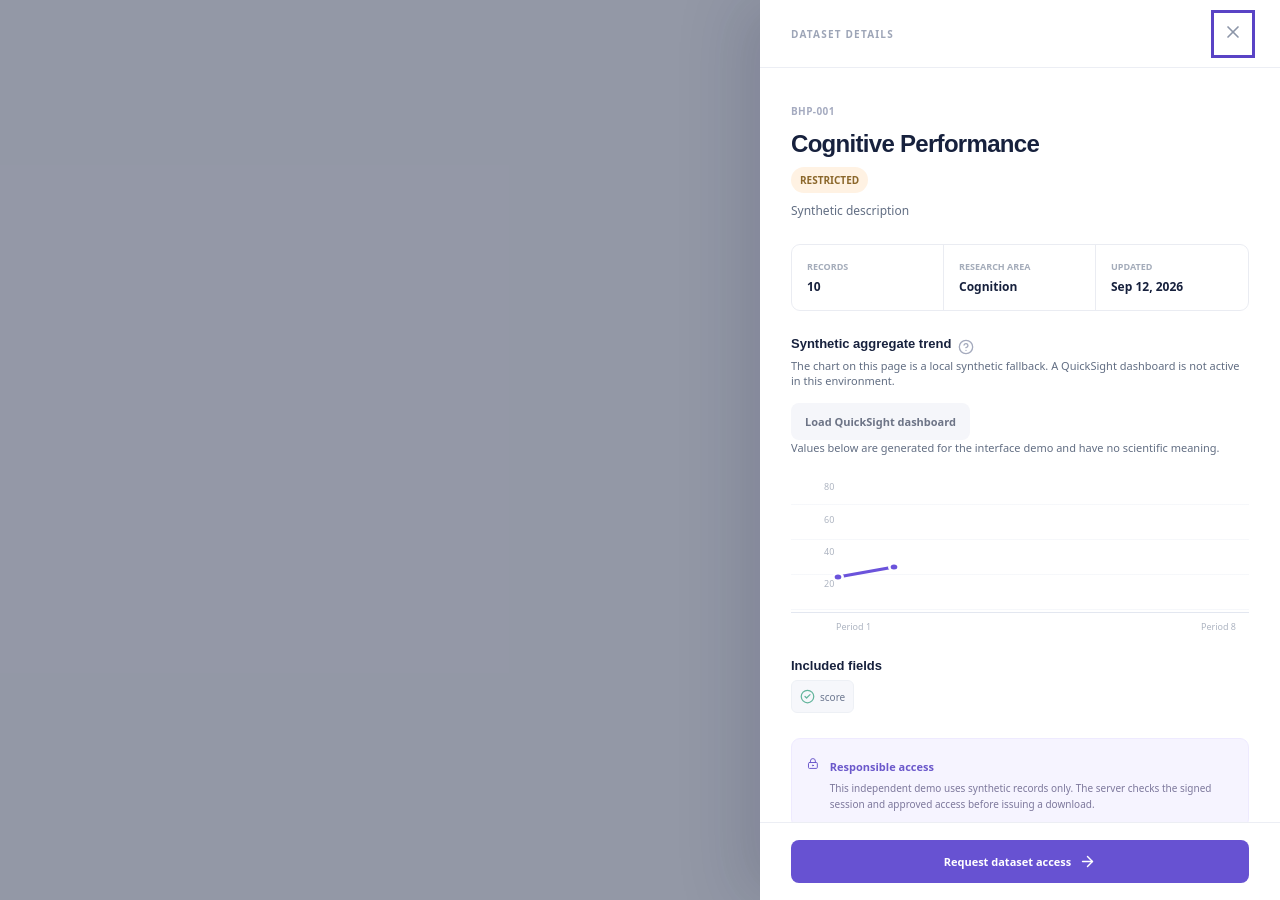
it: dataset detail access request › explains a failed submission and returns focus to the invalid field
Click the button "Request dataset access": coordinates (1020, 862) [791, 840, 1249, 883]
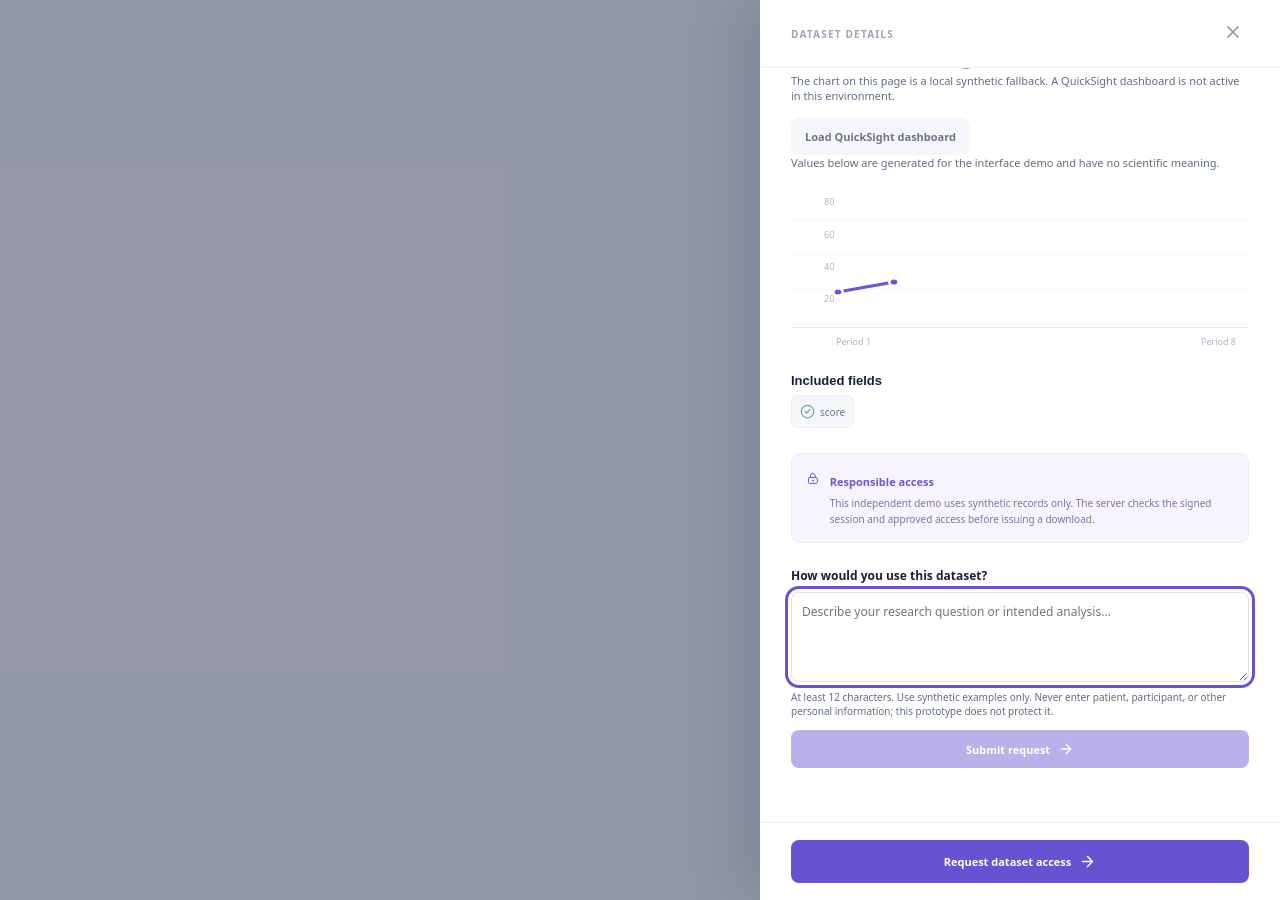
In the text box labelled "How would you use this dataset?": coordinates (1020, 637) [791, 592, 1249, 682], type "Compare synthetic measures across study periods."
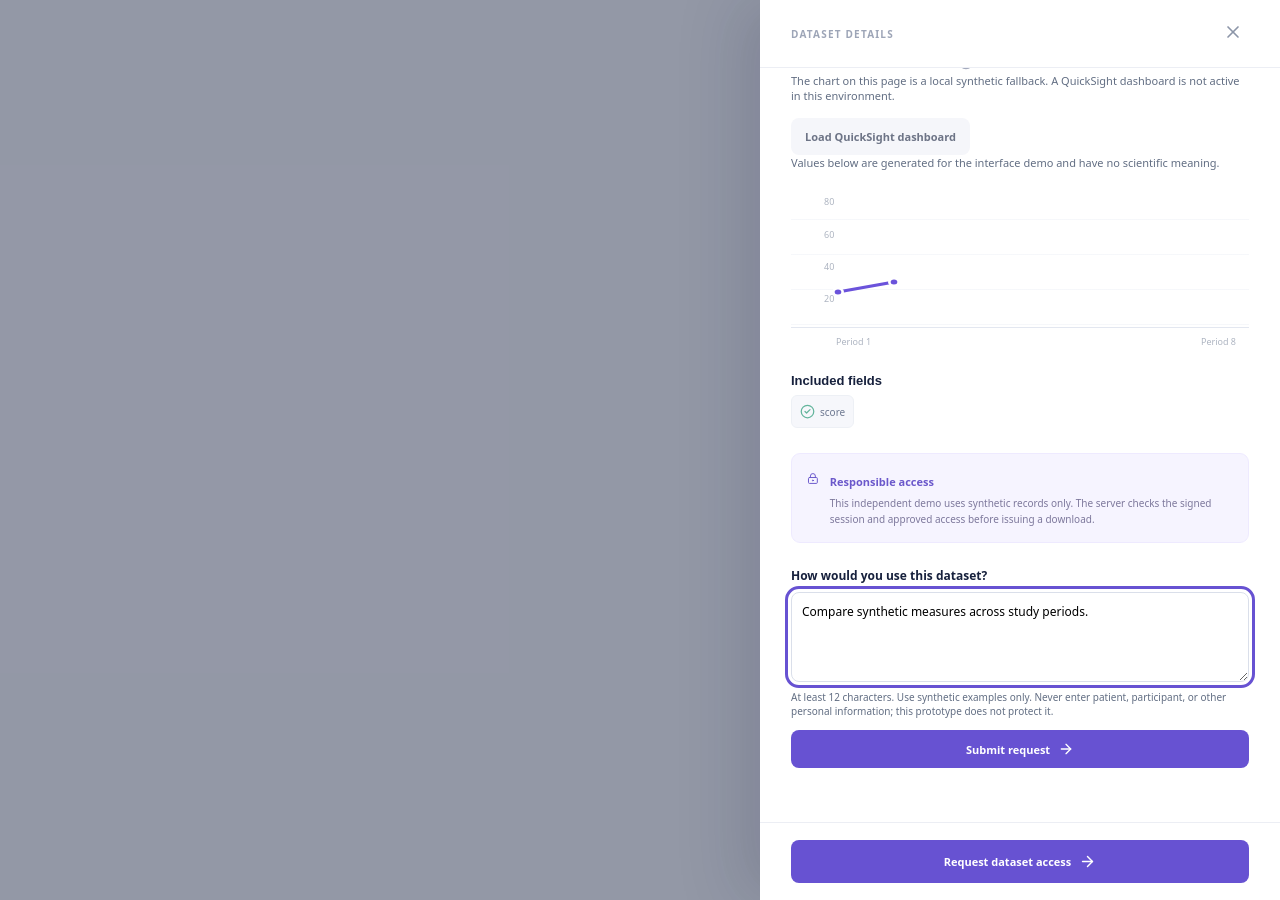
Click the button "Submit request": coordinates (1020, 749) [791, 730, 1249, 768]
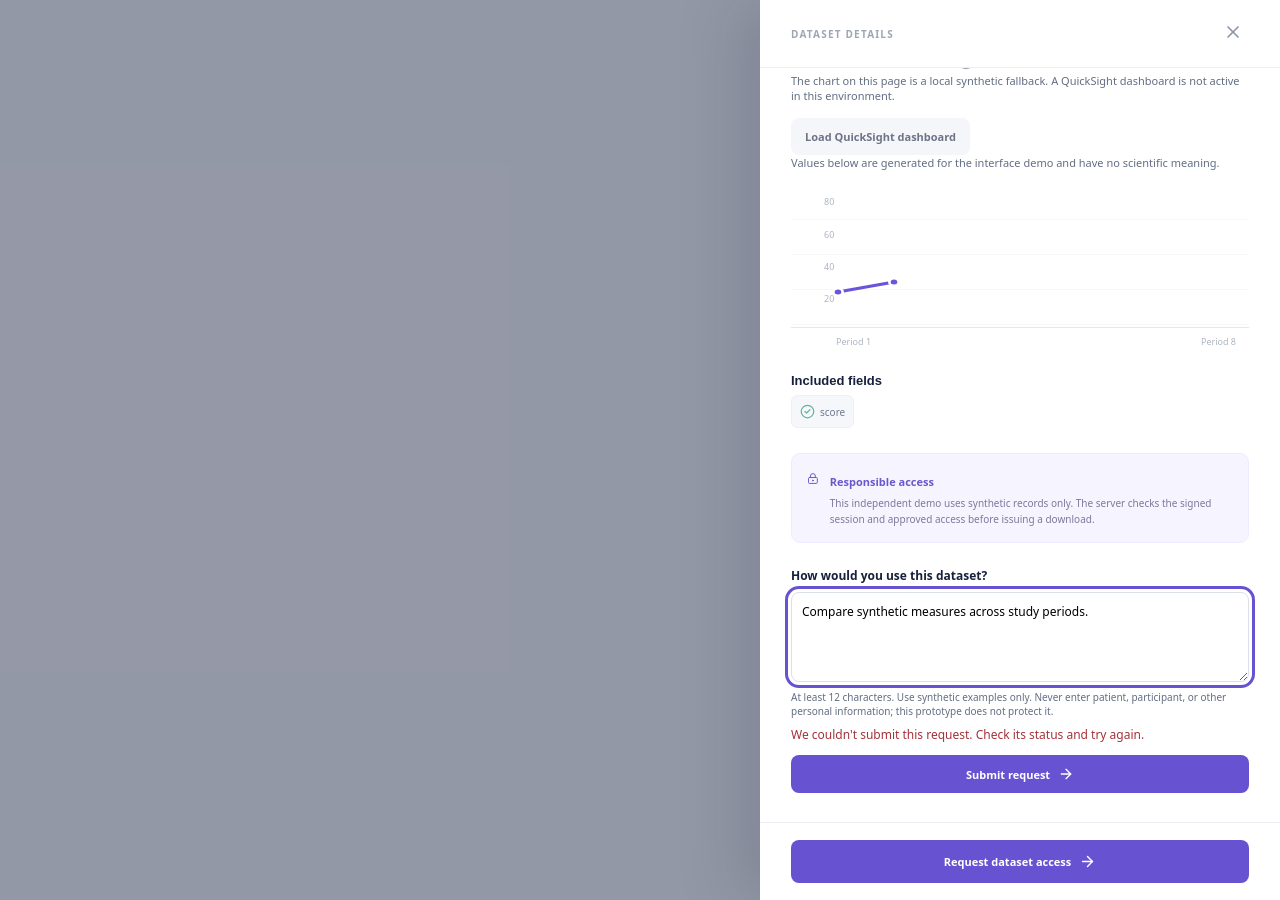
Result: the message shows "We couldn't submit this request" at [791, 726, 1144, 743]
